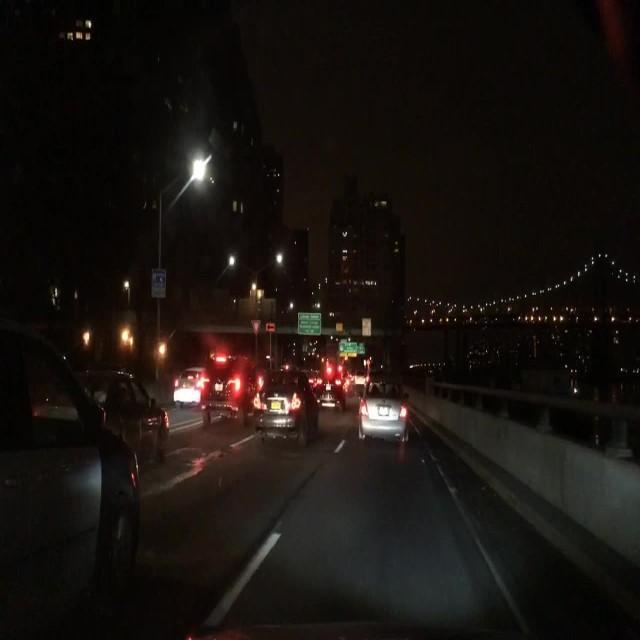normal: (80, 369, 172, 467), (252, 374, 322, 449), (355, 382, 409, 445)
